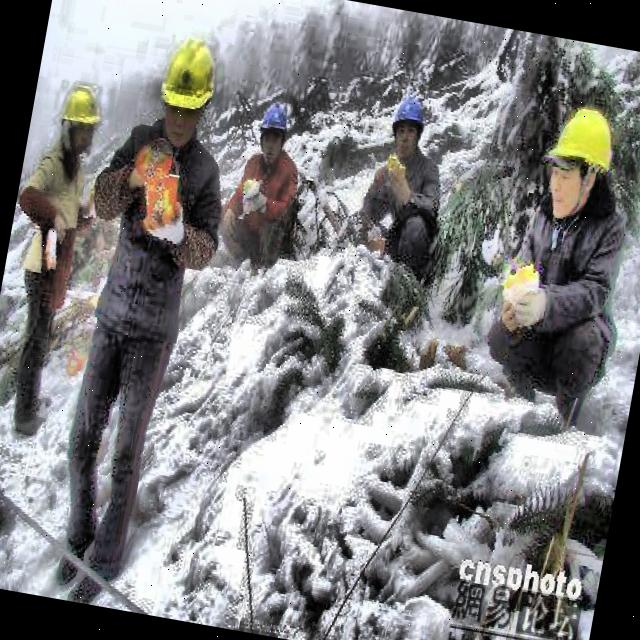helmet: (532, 91, 626, 230), (146, 19, 230, 156), (48, 68, 110, 168), (380, 85, 434, 163), (251, 89, 300, 166)
